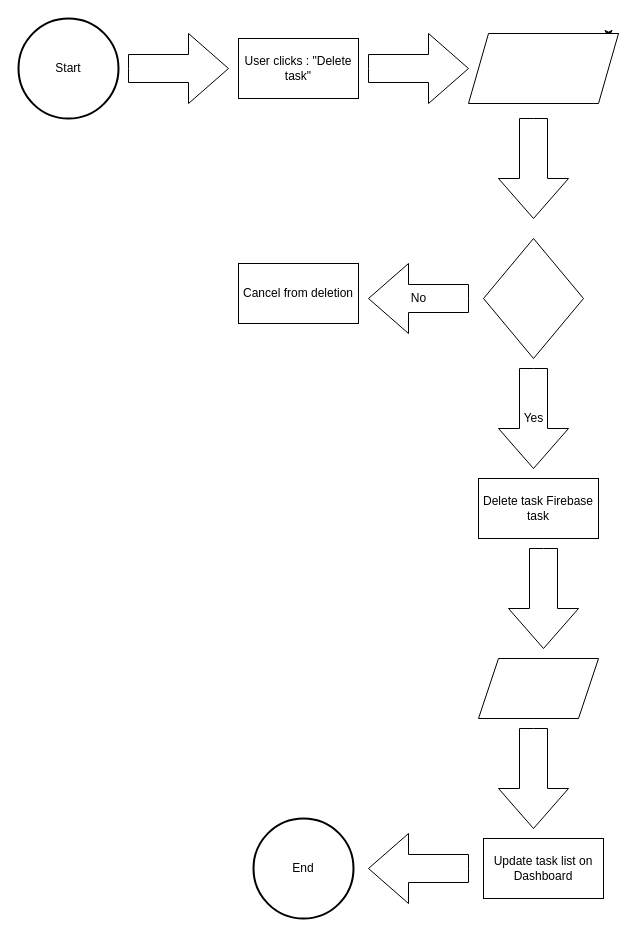
The diagram is 644 pixels wide and 936 high, and some of its shapes have lost their labels. Here are the shapes that lost their labels. From the top down, the centre of each, then its label:
At [543,68]: "Show confirmation dialog : Yes/No".
At [533,298]: "User selects Yes or No".
At [538,688]: "Show sucess message".
